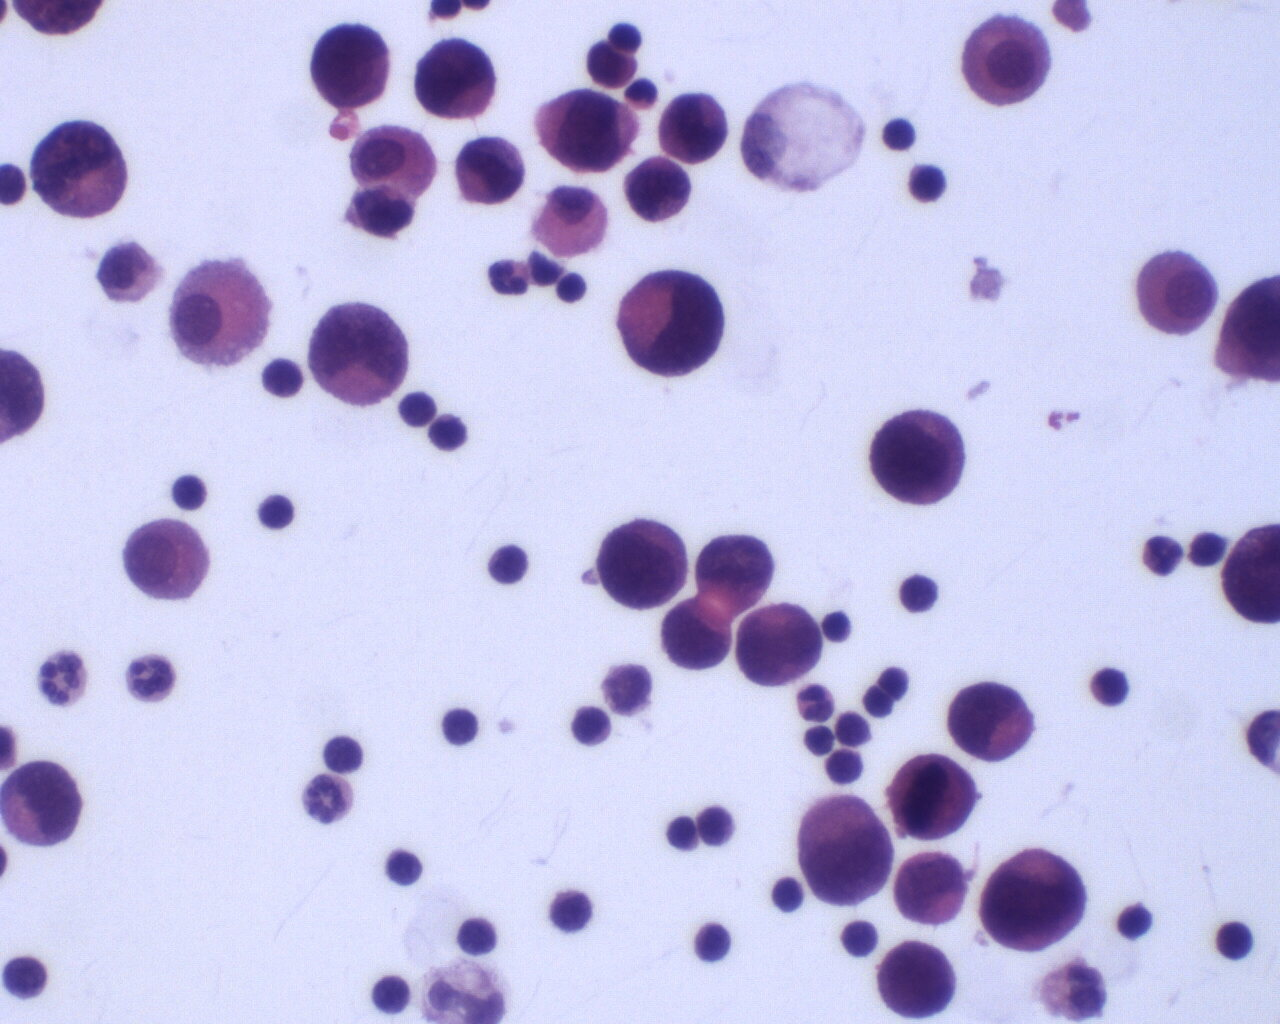ab: (618, 264, 726, 376), (979, 846, 1089, 953), (308, 298, 410, 409), (28, 118, 132, 222), (799, 796, 894, 908), (867, 406, 969, 509), (538, 85, 638, 179), (598, 518, 690, 615), (736, 599, 827, 691), (888, 753, 979, 843), (413, 37, 502, 124), (1, 758, 86, 850), (309, 19, 392, 113), (948, 682, 1035, 761), (877, 938, 957, 1021), (693, 533, 776, 609), (451, 135, 529, 209), (894, 850, 965, 926), (657, 89, 726, 167), (662, 597, 734, 672), (624, 155, 692, 224), (581, 39, 642, 91)
histo: (742, 78, 866, 197)
lymph: (1112, 895, 1159, 947), (568, 701, 614, 750), (895, 571, 945, 616), (453, 909, 498, 958), (1089, 664, 1133, 713), (690, 918, 732, 965), (1215, 920, 1260, 963), (486, 543, 531, 587), (385, 848, 428, 892), (442, 704, 482, 749), (880, 115, 922, 156), (258, 490, 298, 532)
meso: (162, 255, 273, 371), (960, 11, 1055, 110), (1135, 245, 1221, 343), (122, 516, 213, 606), (347, 118, 438, 202)
neutro: (32, 648, 89, 712), (124, 649, 179, 708), (300, 772, 357, 827), (483, 252, 530, 302), (1141, 530, 1186, 579), (794, 681, 837, 725)
